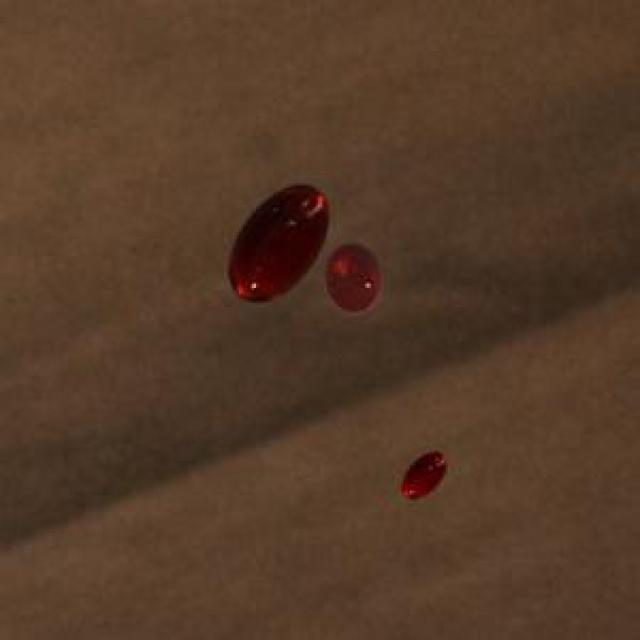Medicol: (210, 170, 391, 340), (390, 444, 456, 512)
